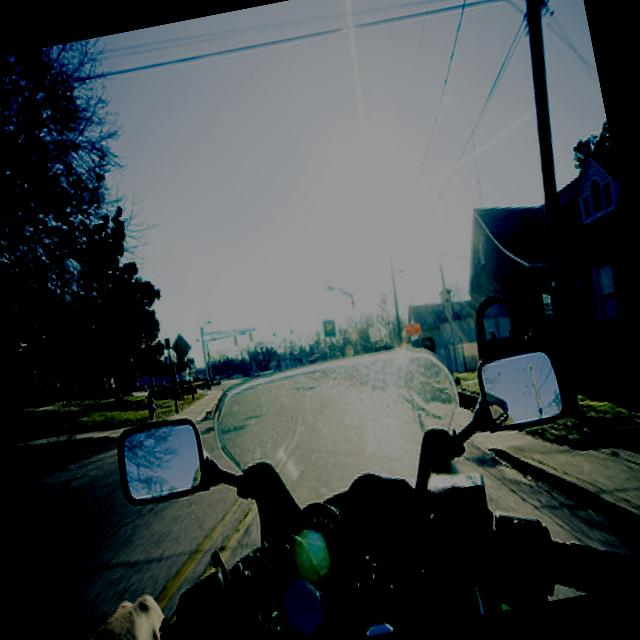Vehicle: (109, 300, 640, 640)
